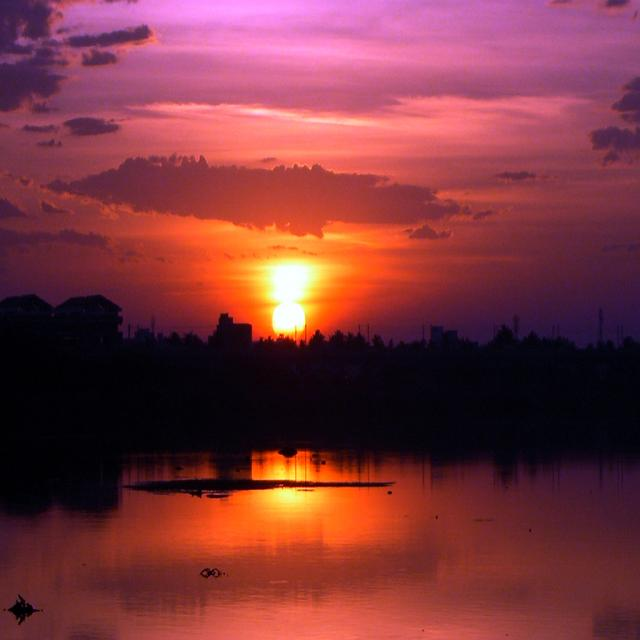no_fire: (134, 206, 398, 570)
